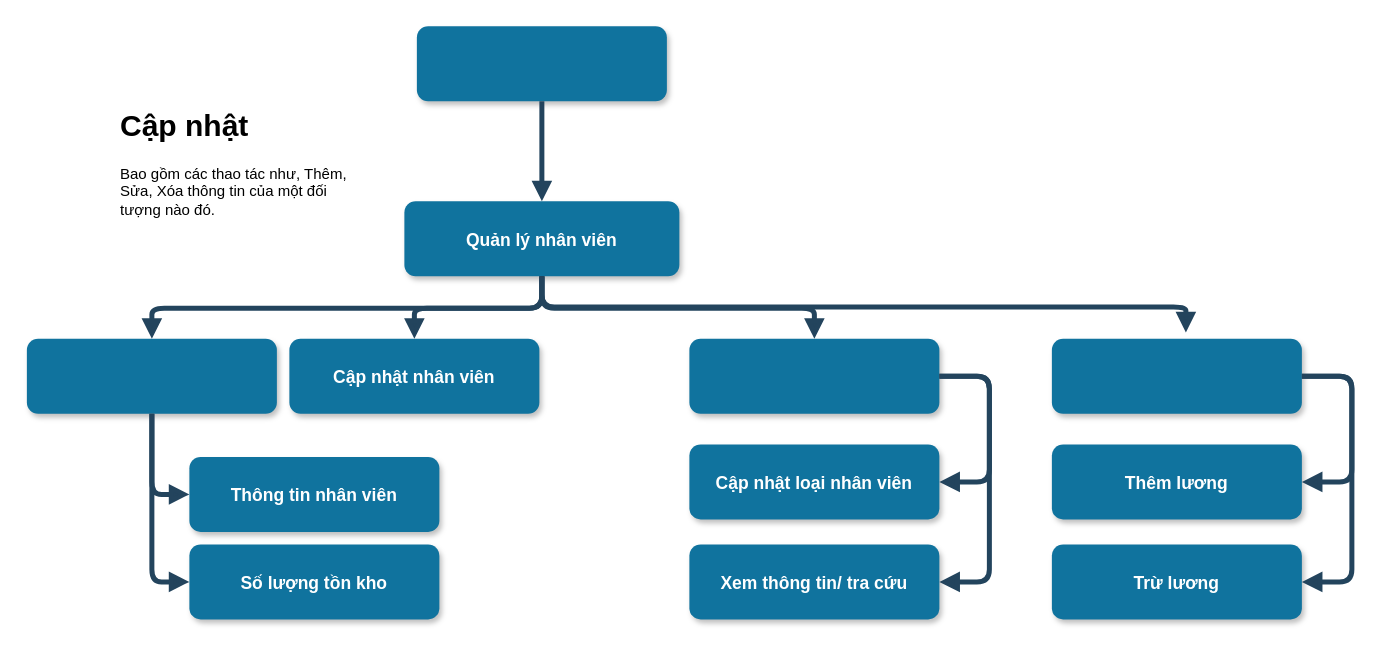
This 1385x650 diagram has some shape labels left out. The shapes that lost their labels are listed below. From the top down, each one's centre as x and y in pixels, then its label:
At point (542, 65): "Admin".
At point (152, 377): "Xem thông tin nhân viên".
At point (815, 377): "Quản lý loại nhân viên".
At point (1177, 377): "Tính lương".
